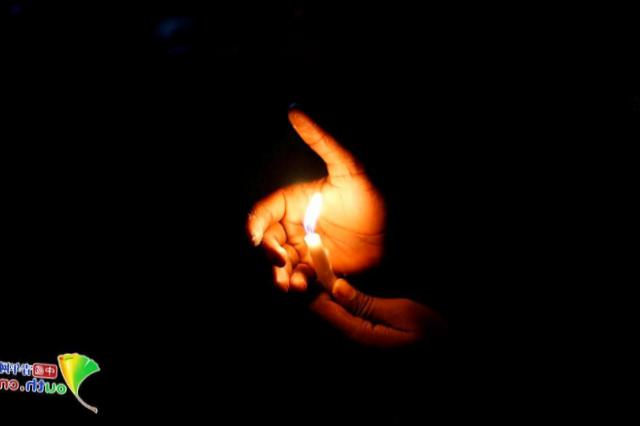fire: (305, 189, 324, 231)
